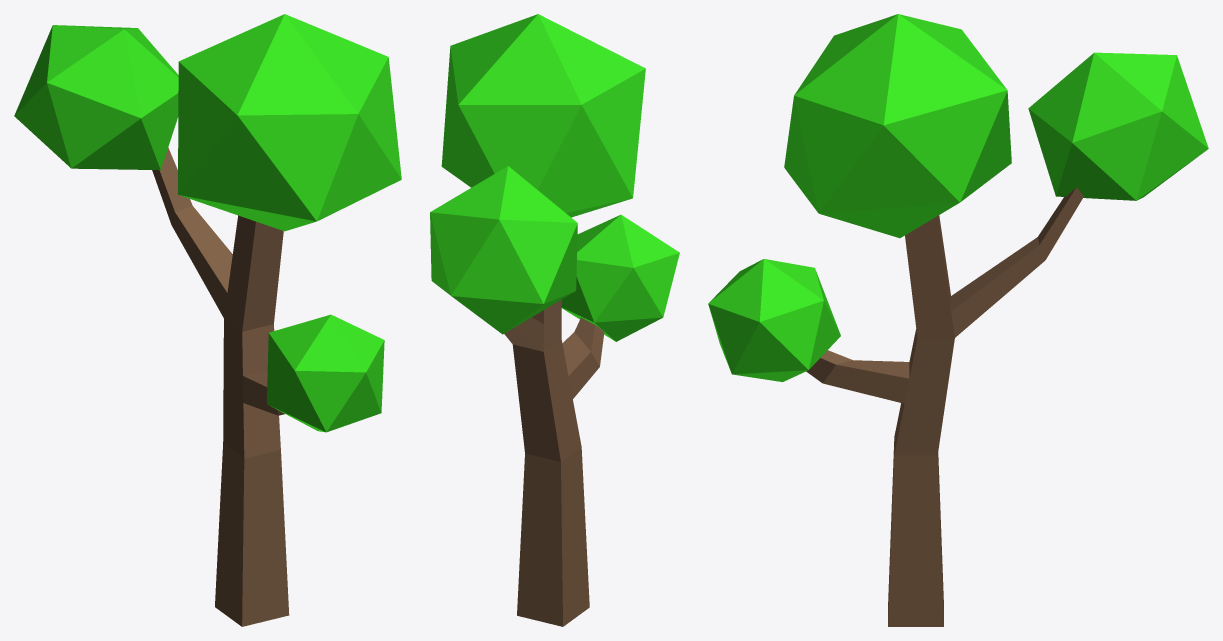
Rendered from tree2.gltf.
The picture shows the model from 3 angles, left to right: view 1: azimuth 30°, elevation 25°; view 2: azimuth 150°, elevation 25°; view 3: azimuth 270°, elevation 25°; orthographic projection. The views are drawn at different scales.
Visible parts, largest first — view 1: Cube; view 2: Cube; view 3: Cube.
Part boxes in pixels (x1,y1,x2,y2): Cube: (14, 14, 401, 626); Cube: (430, 14, 679, 626); Cube: (708, 14, 1208, 626).
Bounding box in the file's own units: 5.29 × 12.81 × 9.48.
Materials: 1 (1 with a texture image).
